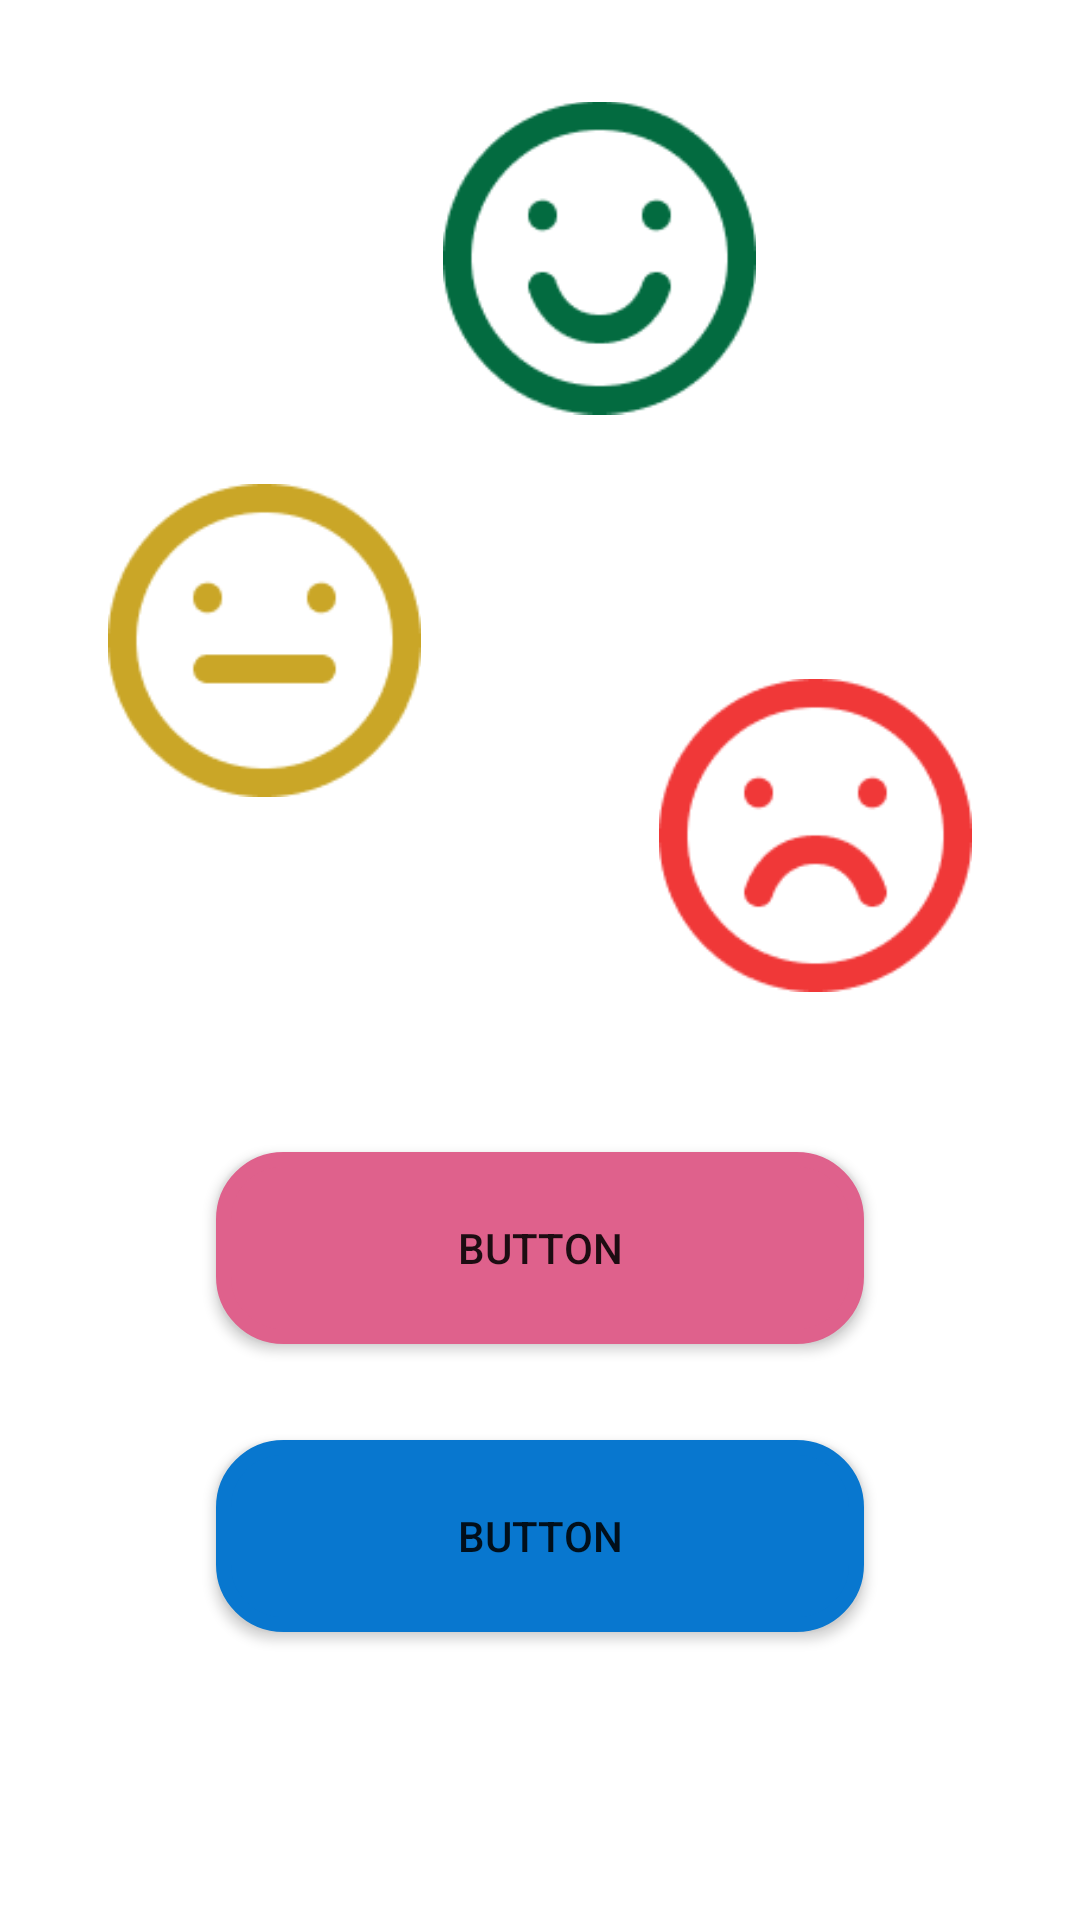

Screen size 1080 x 1920. Icon name, then its center in pixels as point (x, y):
happy: point (599, 258)
nothing: point (264, 640)
unhappy: point (815, 835)
